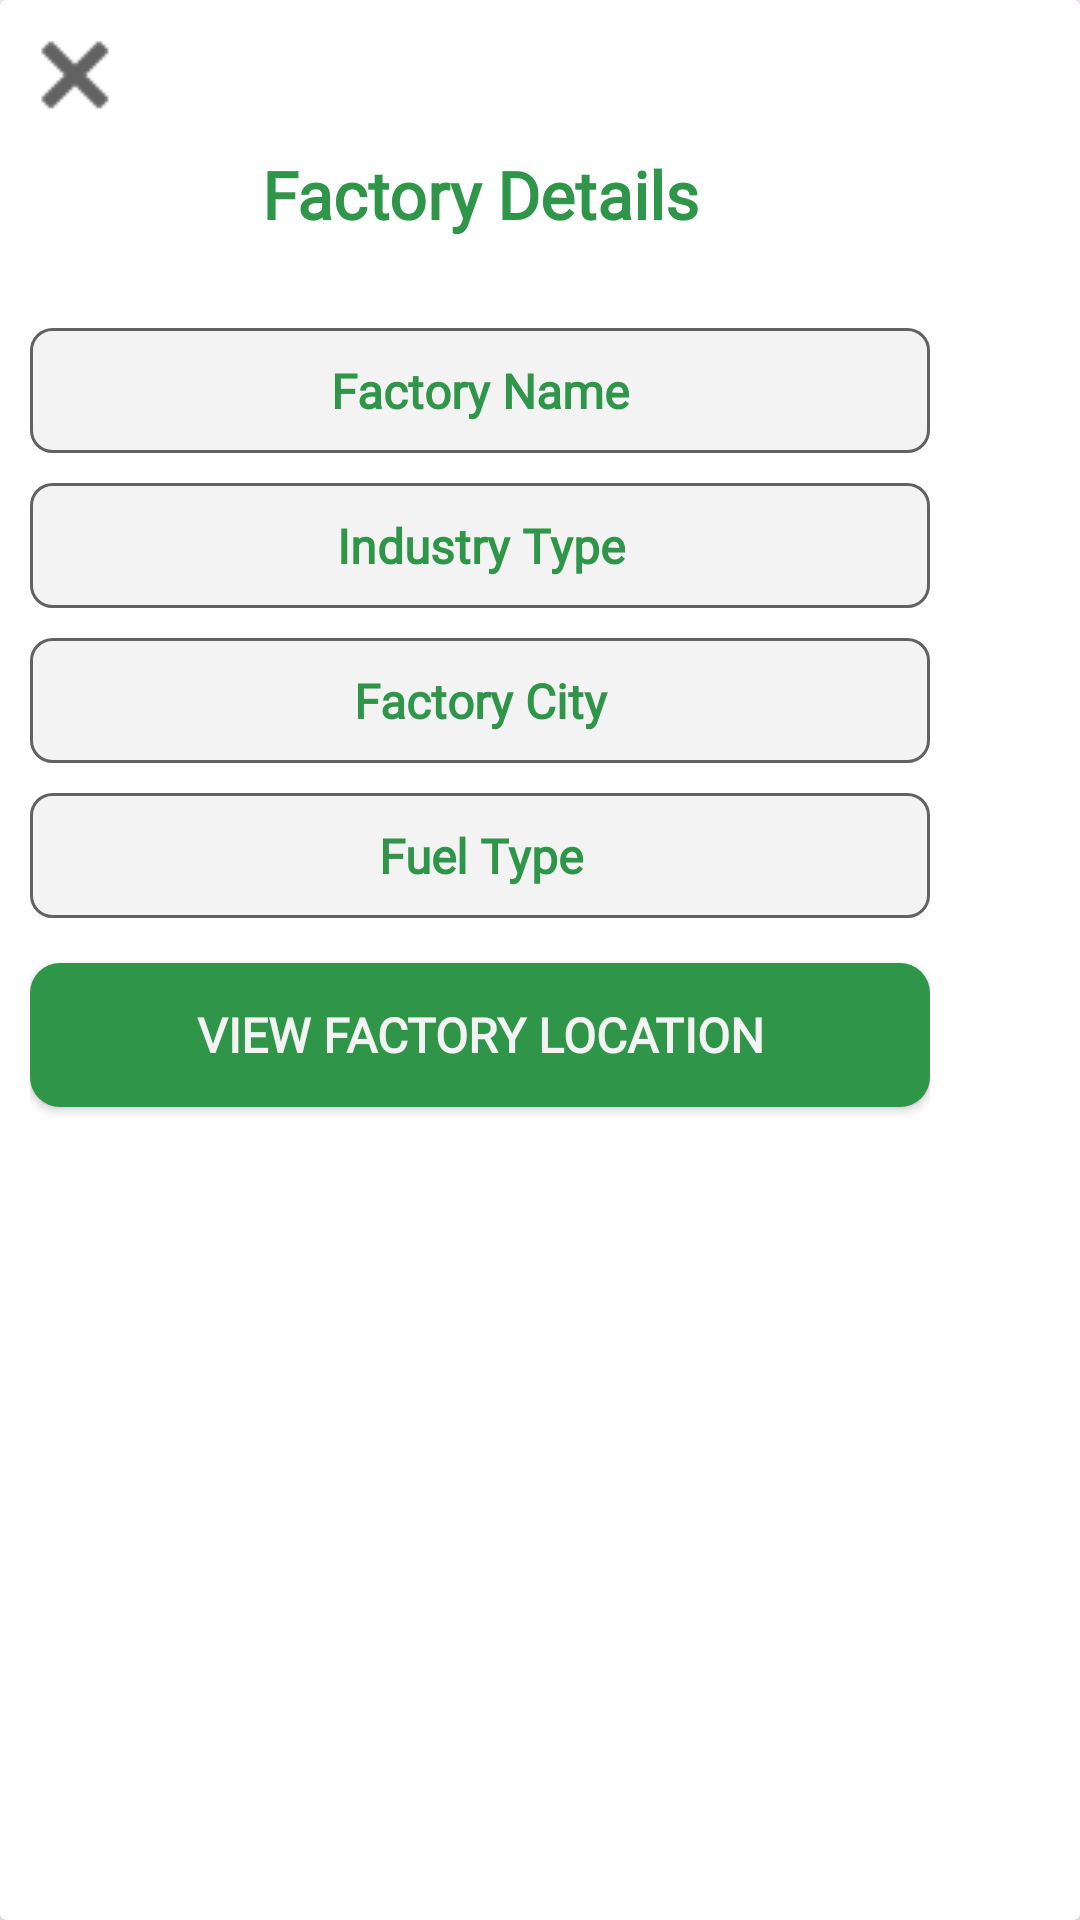

Screen size 1080x1920. Icon name, then its center in pixels as (x=x, y=y):
close: (x=75, y=75)
